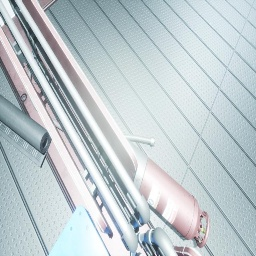NitrogenTank ,: (126, 138, 210, 248)
